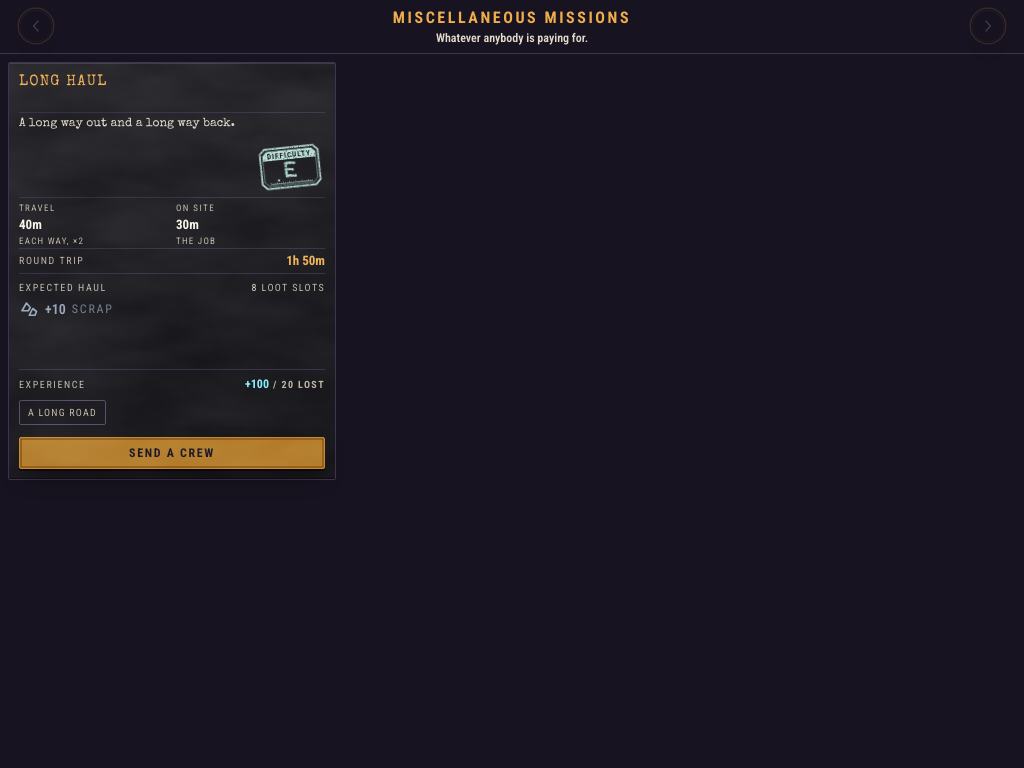
Scenario: picking the machine first › stops the stepper at the seats once a machine is loaded
Click the button "Send a crew". click: (172, 452)
box: [19,436,325,468]
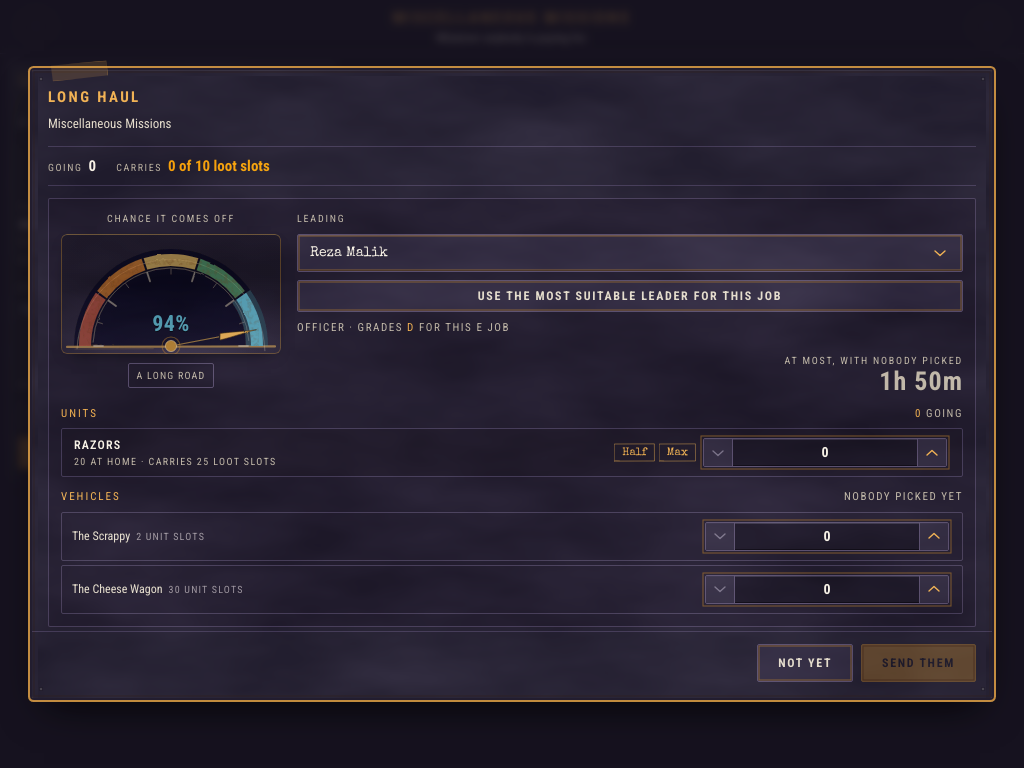
Replace the text in the number field named "How many Scrappy" with "1". click: (827, 536)
box: [734,523,920,550]
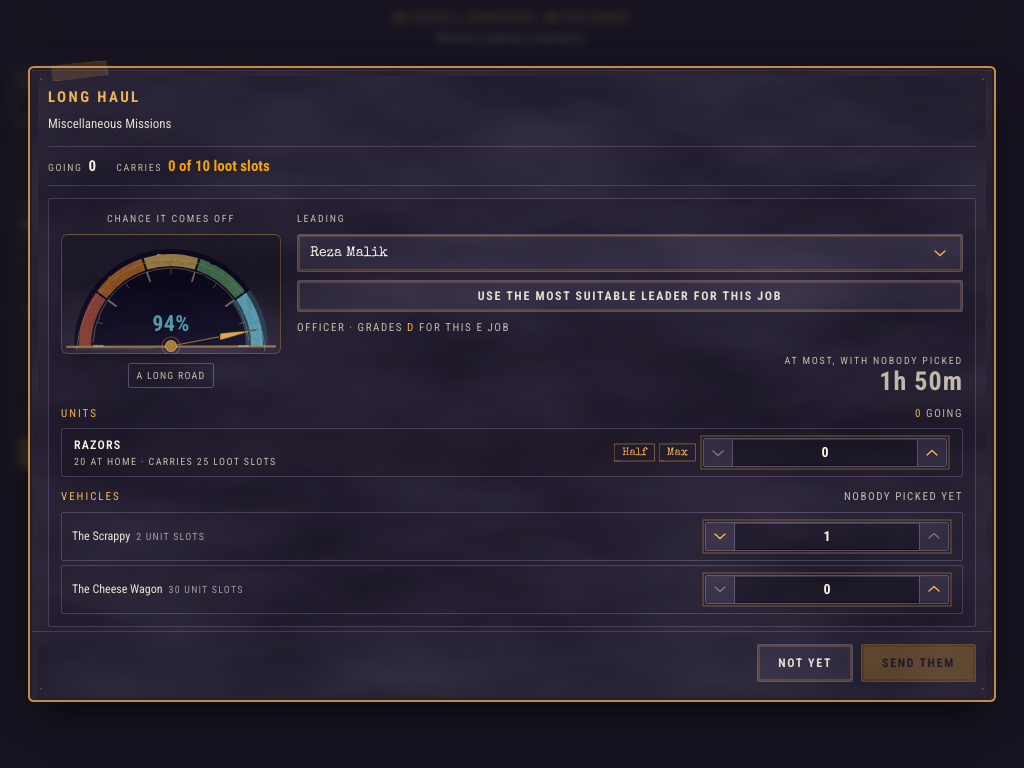
Click the button "Max". click: (677, 453)
box: [659,443,696,462]
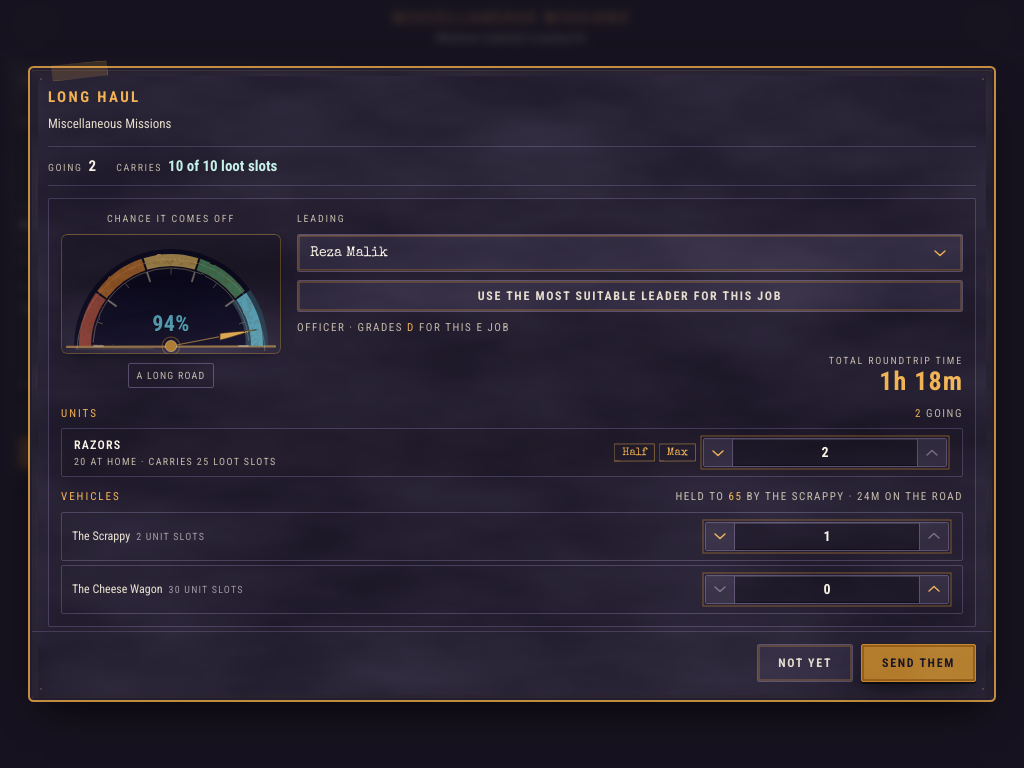
Check: the number field named "How many Razors" holds "2", box [732,439,918,466]
Check: the button with test id "confirm-send" is enabled, box [861,644,976,682]
